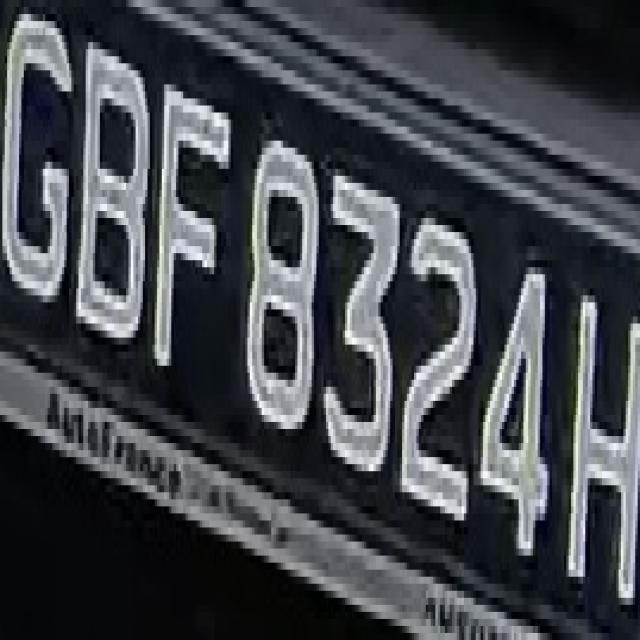2: (407, 140, 478, 562)
3: (324, 134, 404, 492)
4: (476, 197, 554, 570)
8: (242, 91, 318, 436)
B: (79, 14, 145, 373)
F: (152, 56, 226, 401)
G: (9, 0, 73, 316)
H: (2, 3, 2, 7)
